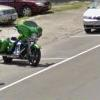Motorcycle: (4, 21, 49, 73)
